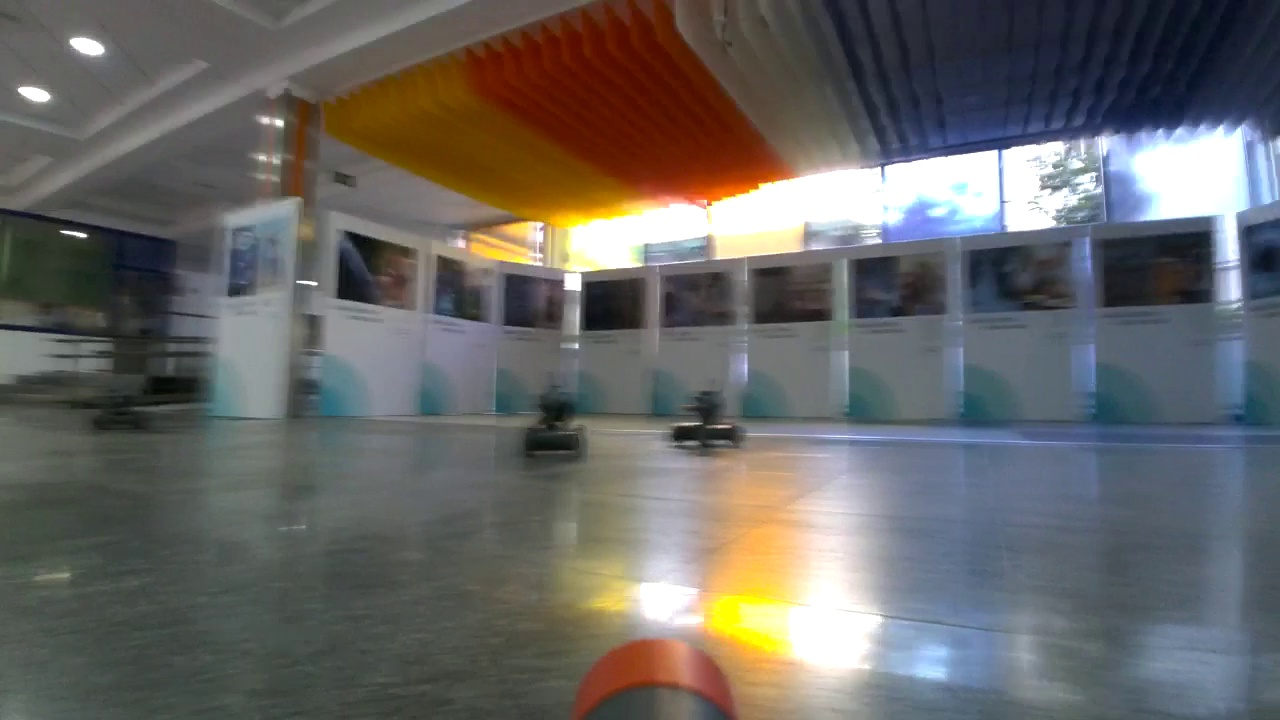robot: (522, 385, 586, 457), (674, 389, 742, 448)
